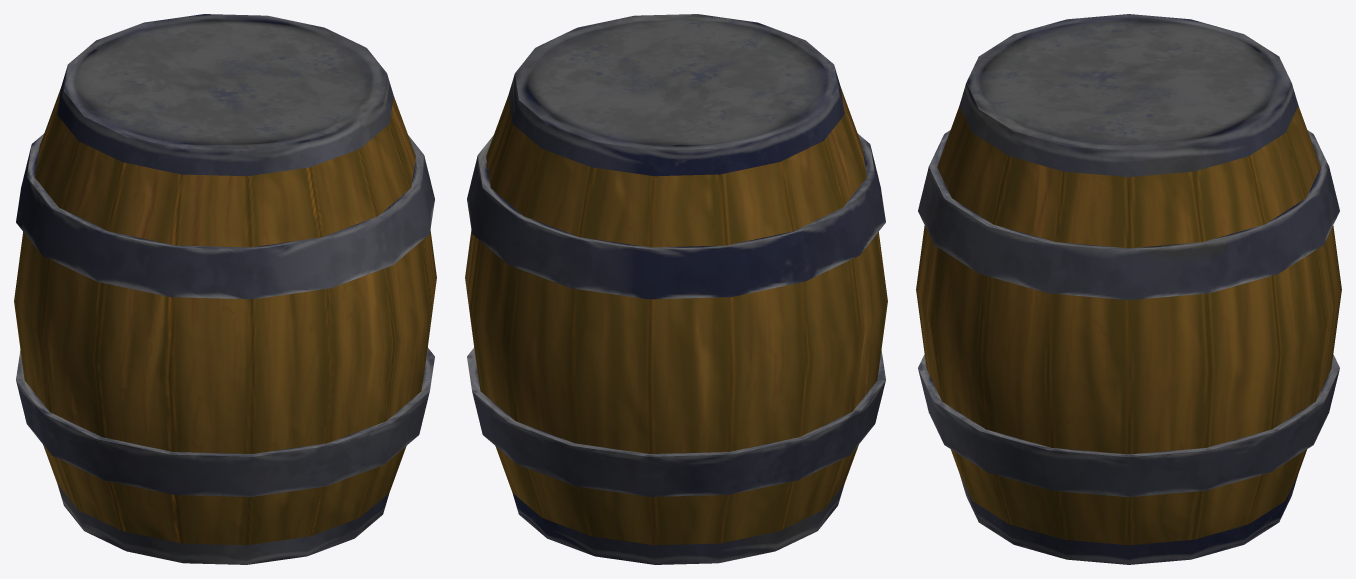
File: Barril_Simple_Original_Claro2.fbx
The picture shows the model from 3 angles, left to right: view 1: azimuth 30°, elevation 25°; view 2: azimuth 150°, elevation 25°; view 3: azimuth 270°, elevation 25°; orthographic projection.
Visible parts, largest first — view 1: Barril_Simple_Original_Claro2; view 2: Barril_Simple_Original_Claro2; view 3: Barril_Simple_Original_Claro2.
Part boxes in pixels (bbox=[...]): Barril_Simple_Original_Claro2: bbox=[14, 14, 436, 564]; Barril_Simple_Original_Claro2: bbox=[465, 14, 887, 564]; Barril_Simple_Original_Claro2: bbox=[916, 14, 1341, 564].
Bounding box in the file's own units: 98.01 × 105 × 98.01.
